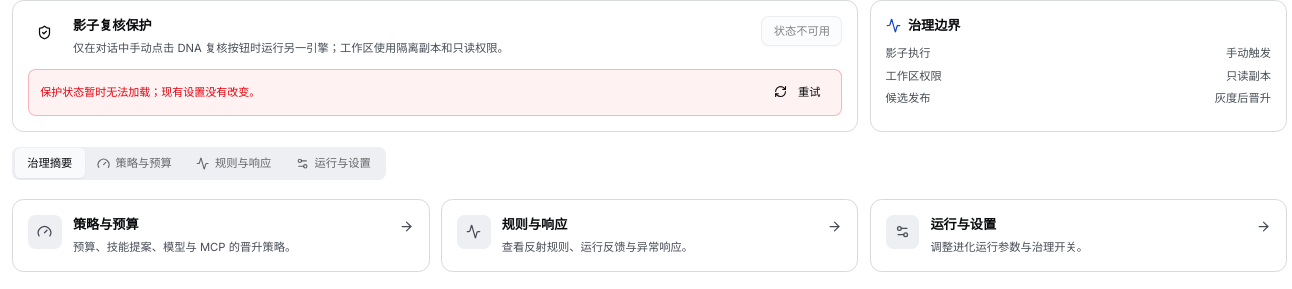
Test: EvolutionGovernancePanel › distinguishes an unavailable protection status from the disabled state
Expected: the message shows "保护状态暂时无法加载；现有设置没有改变。", left=40, top=85, right=260, bottom=99
Expected: the button "状态不可用" is disabled, left=762, top=16, right=842, bottom=46
Click the button "重试": (797,92) left=764, top=77, right=830, bottom=107
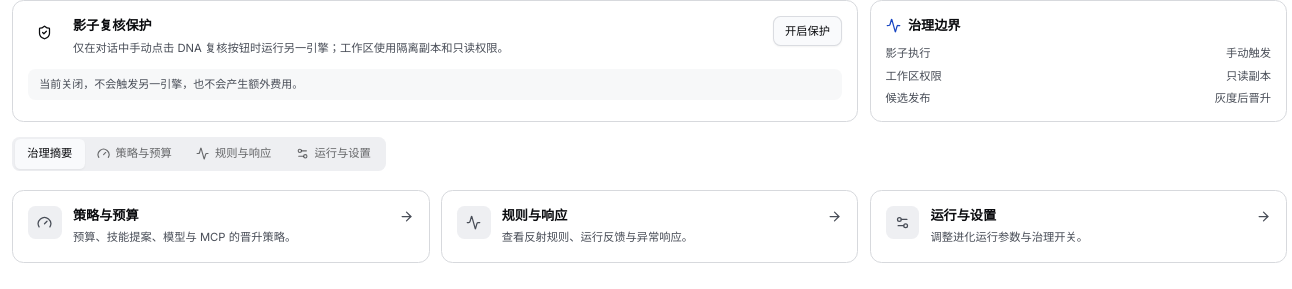
Now the text "当前关闭，不会触发另一引擎，也不会产生额外费用。" is shown, box left=28, top=68, right=842, bottom=100
